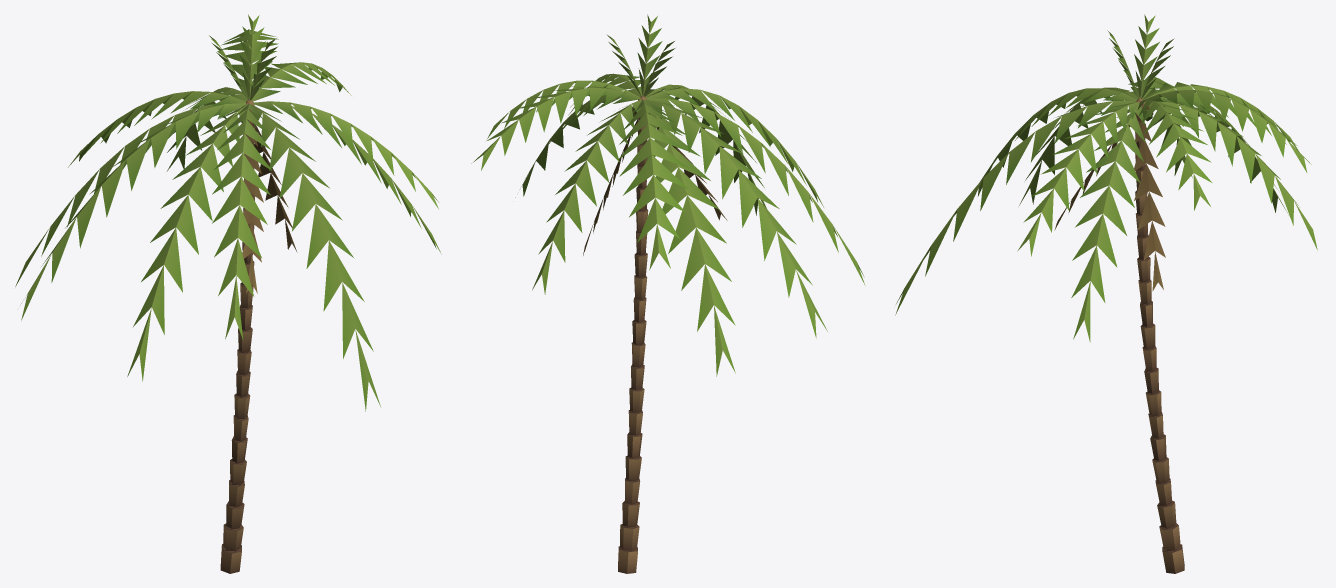
The model's file is palm_tall_b.glb.
3 renders of one model, left to right at view 1: azimuth 30°, elevation 25°; view 2: azimuth 150°, elevation 25°; view 3: azimuth 270°, elevation 25°, orthographic. The views are drawn at different scales.
Visible parts, largest first — view 1: palm_tall_b_leaf, palm_tall_b_solid; view 2: palm_tall_b_leaf, palm_tall_b_solid; view 3: palm_tall_b_leaf, palm_tall_b_solid.
Part boxes in pixels (x1=…): palm_tall_b_leaf: x1=15, y1=14, x2=441, y2=411; palm_tall_b_solid: x1=220, y1=99, x2=255, y2=573; palm_tall_b_leaf: x1=471, y1=14, x2=865, y2=376; palm_tall_b_solid: x1=618, y1=95, x2=649, y2=573; palm_tall_b_leaf: x1=895, y1=14, x2=1317, y2=342; palm_tall_b_solid: x1=1135, y1=97, x2=1184, y2=573.
Bounding box in the file's own units: 10.2 × 14.47 × 10.34.
